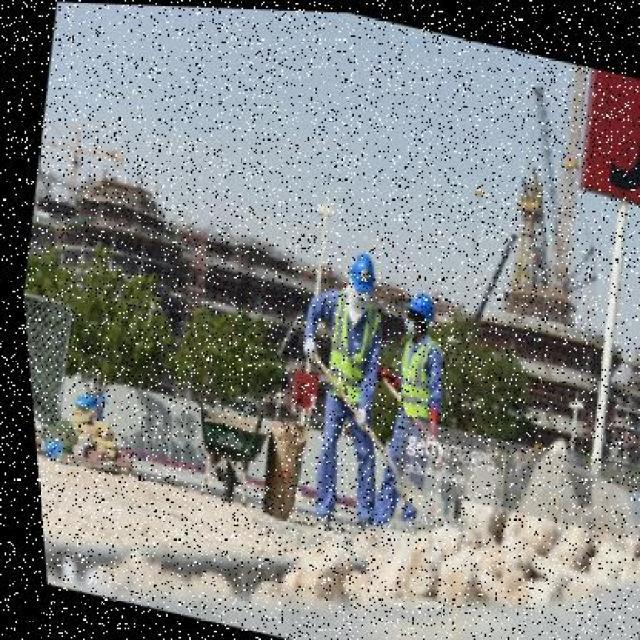helmet: (339, 248, 377, 294), (405, 291, 431, 315)
vest: (308, 288, 377, 406), (383, 326, 437, 416)
